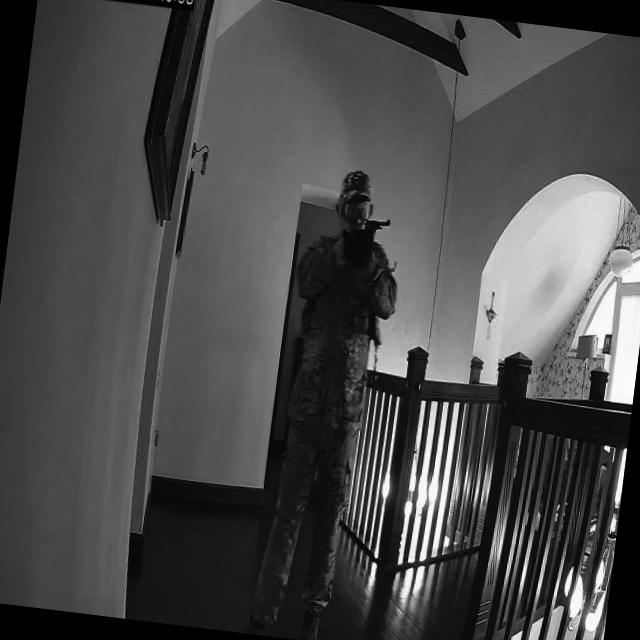gun: (362, 214, 392, 240)
person with a gun: (253, 161, 408, 640)
